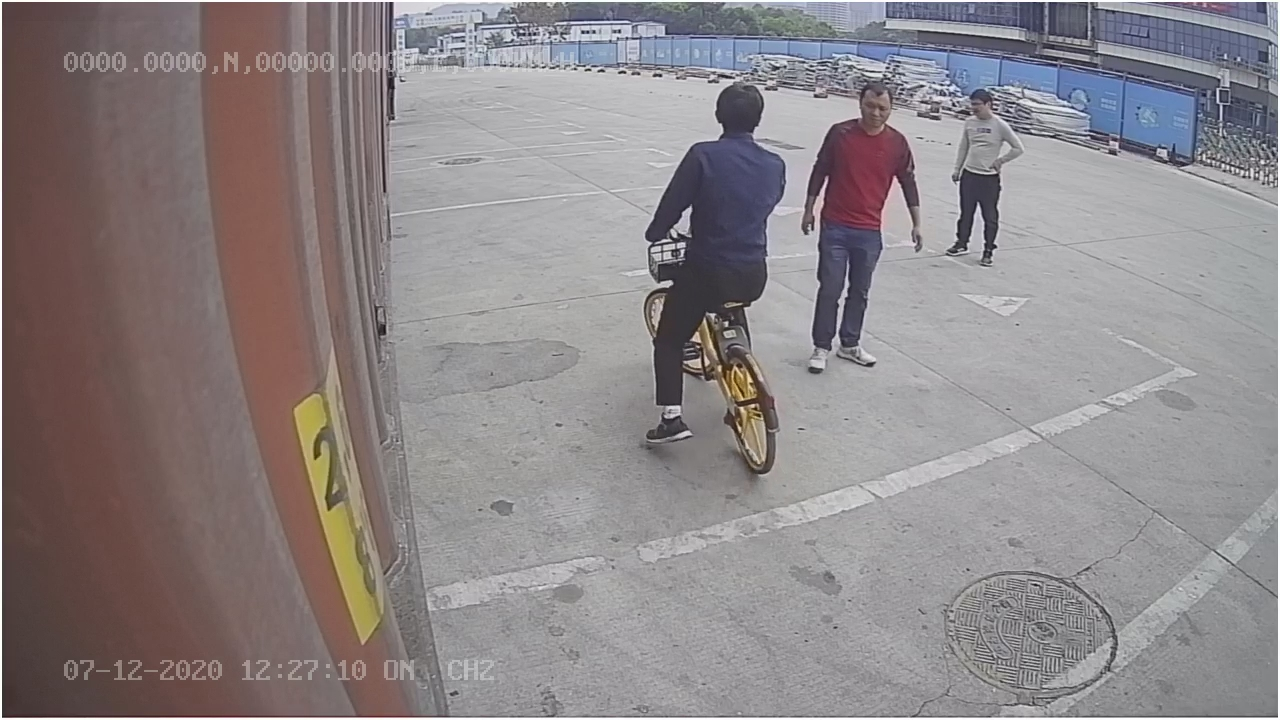person: (794, 78, 927, 384)
